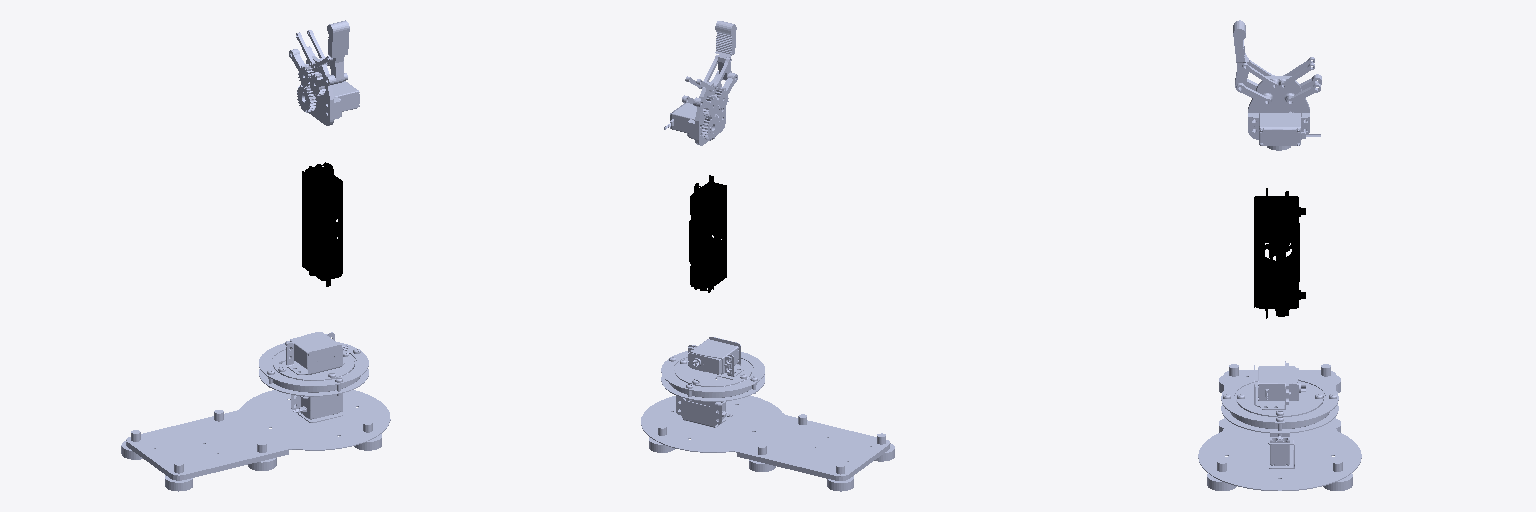
The robot description file, URDF, robot "robox_arm":
<?xml version="1.0" encoding="utf-8"?>
<robot name="robox_arm">
  <link name="world" />
  <joint name="world_to_base" type="fixed">
    <parent link="world" />
    <child link="base_link" />
    <origin xyz="0 0 0" rpy="0 0 0" />
  </joint>
  <link name="base_link">
    <inertial>
      <origin xyz="-0.0334185417734068 0.000387038994720544 0.0314489504139099" rpy="0 0 0" />
      <mass value="0.446165792554974" />
      <inertia ixx="0.000377604195091325" ixy="1.5002286725277E-07" ixz="3.39719956827626E-08" iyy="0.000575990291491252" iyz="-4.62907243003046E-07" izz="0.000932227302367943" />
    </inertial>
    <visual>
      <origin xyz="0 0 0" rpy="0 0 0" />
      <geometry>
        <mesh filename="package://robox_arm/meshes/base_link.STL" />
      </geometry>
      <material name="">
        <color rgba="0.792156862745098 0.819607843137255 0.933333333333333 1" />
      </material>
    </visual>
    <collision>
      <origin xyz="0 0 0" rpy="0 0 0" />
      <geometry>
        <mesh filename="package://robox_arm/meshes/base_link.STL" />
      </geometry>
    </collision>
  </link>
  <link name="link_one">
    <inertial>
      <origin xyz="-6.03622970718007E-06 -0.00521662588863068 0.0257879622486223" rpy="0 0 0" />
      <mass value="0.0668932541241872" />
      <inertia ixx="1.48670587538434E-05" ixy="-1.64856890592254E-07" ixz="-2.11950827848722E-11" iyy="1.80390144856992E-05" iyz="4.60310653530523E-07" izz="2.74670730418135E-05" />
    </inertial>
    <visual>
      <origin xyz="0 0 0" rpy="0 0 0" />
      <geometry>
        <mesh filename="package://robox_arm/meshes/link_one.STL" />
      </geometry>
      <material name="">
        <color rgba="0.792156862745098 0.819607843137255 0.933333333333333 1" />
      </material>
    </visual>
    <collision>
      <origin xyz="0 0 0" rpy="0 0 0" />
      <geometry>
        <mesh filename="package://robox_arm/meshes/link_one.STL" />
      </geometry>
    </collision>
  </link>
  <joint name="joint_one" type="revolute">
    <origin xyz="0 0 0.0466" rpy="0 0 0" />
    <parent link="base_link" />
    <child link="link_one" />
    <axis xyz="0 0 -1" />
    <limit lower="-1.57" upper="1.57" effort="100" velocity="1.0" />
  </joint>
  <link name="link_two">
    <inertial>
      <origin xyz="-0.00395375026056333 -0.0261174627773937 0.050000000000004" rpy="0 0 0" />
      <mass value="0.0422835365975947" />
      <inertia ixx="5.89921114741114E-05" ixy="6.97908192319894E-08" ixz="2.03660766696015E-19" iyy="3.9772332084034E-05" iyz="-3.28467652830113E-20" izz="2.5539223828081E-05" />
    </inertial>
    <visual>
      <origin xyz="0 0 0" rpy="0 0 0" />
      <geometry>
        <mesh filename="package://robox_arm/meshes/link_two.STL" />
      </geometry>
      <material name="">
        <color rgba="0.650980392156863 0.619607843137255 0.588235294117647 1" />
      </material>
    </visual>
    <collision>
      <origin xyz="0 0 0" rpy="0 0 0" />
      <geometry>
        <mesh filename="package://robox_arm/meshes/link_two.STL" />
      </geometry>
    </collision>
  </link>
  <joint name="joint_two" type="revolute">
    <origin xyz="0.00949999999999964 0.0247000000000005 0.03197" rpy="0 0 0" />
    <parent link="link_one" />
    <child link="link_two" />
    <axis xyz="0 -1 0" />
    <limit lower="-1.57" upper="0.69" effort="100" velocity="1.0" />
  </joint>
  <link name="link_three">
    <inertial>
      <origin xyz="-0.00130547761778302 -0.0296809745011252 0.0450025336216375" rpy="0 0 0" />
      <mass value="0.13493320864261" />
      <inertia ixx="0.000101277084289936" ixy="1.06896096466094E-06" ixz="1.9122530405454E-09" iyy="8.18401383142468E-05" iyz="-1.20327532021426E-09" izz="3.06279251273651E-05" />
    </inertial>
    <visual>
      <origin xyz="0 0 0" rpy="0 0 0" />
      <geometry>
        <mesh filename="package://robox_arm/meshes/link_three.STL" />
      </geometry>
      <material name="">
        <color rgba="0 0 0 1" />
      </material>
    </visual>
    <collision>
      <origin xyz="0 0 0" rpy="0 0 0" />
      <geometry>
        <mesh filename="package://robox_arm/meshes/link_three.STL" />
      </geometry>
    </collision>
  </link>
  <joint name="joint_three" type="revolute">
    <origin xyz="0 0.000700000000000298 0.100000000000001" rpy="0 0 0" />
    <parent link="link_two" />
    <child link="link_three" />
    <axis xyz="0 -1 0" />
    <limit lower="-1.57" upper="1.57" effort="100" velocity="1.0" />
  </joint>
  <link name="link_four">
    <inertial>
      <origin xyz="0.000231063846424276 -0.0264803282154438 0.0477744454869917" rpy="0 0 0" />
      <mass value="0.0447180488708645" />
      <inertia ixx="1.67748714277602E-05" ixy="2.1197715357756E-11" ixz="-3.39708625518307E-08" iyy="1.67225833712195E-05" iyz="-1.14245221974723E-07" izz="1.41082751627853E-05" />
    </inertial>
    <visual>
      <origin xyz="0 0 0" rpy="0 0 0" />
      <geometry>
        <mesh filename="package://robox_arm/meshes/link_four.STL" />
      </geometry>
      <material name="">
        <color rgba="0.250980392156863 0.250980392156863 0.250980392156863 1" />
      </material>
    </visual>
    <collision>
      <origin xyz="0 0 0" rpy="0 0 0" />
      <geometry>
        <mesh filename="package://robox_arm/meshes/link_four.STL" />
      </geometry>
    </collision>
  </link>
  <joint name="joint_four" type="revolute">
    <origin xyz="0 0 0.0900000000000024" rpy="0 0 0" />
    <parent link="link_three" />
    <child link="link_four" />
    <axis xyz="0 -1 0" />
    <limit lower="-1.57" upper="1.57" effort="100" velocity="1.0" />
  </joint>
  <link name="link_five">
    <inertial>
      <origin xyz="-0.0053487746024533 0.000816136547311788 0.031618982814421" rpy="0 0 0" />
      <mass value="0.067532070571742" />
      <inertia ixx="2.03298597613589E-05" ixy="-1.0267674972768E-09" ixz="9.64129370372415E-07" iyy="1.07589999406465E-05" iyz="-2.00951540427755E-07" izz="1.25282391022449E-05" />
    </inertial>
    <visual>
      <origin xyz="0 0 0" rpy="0 0 0" />
      <geometry>
        <mesh filename="package://robox_arm/meshes/link_five.STL" />
      </geometry>
      <material name="">
        <color rgba="0.792156862745098 0.819607843137255 0.933333333333333 1" />
      </material>
    </visual>
    <collision>
      <origin xyz="0 0 0" rpy="0 0 0" />
      <geometry>
        <mesh filename="package://robox_arm/meshes/link_five.STL" />
      </geometry>
    </collision>
  </link>
  <joint name="joint_five" type="revolute">
    <origin xyz="0.00975000000002091 -0.0263999999999991 0.0726000000000027" rpy="0 0 0" />
    <parent link="link_four" />
    <child link="link_five" />
    <axis xyz="0 0 -1" />
    <limit lower="-1.57" upper="1.57" effort="100" velocity="1.0" />
  </joint>
  <link name="link_six">
    <inertial>
      <origin xyz="-7.04166355173369E-09 0.00538295031234353 -0.0219879956622193" rpy="0 0 0" />
      <mass value="0.0100926857205057" />
      <inertia ixx="3.69526754574355E-06" ixy="-1.11193490795298E-13" ixz="-6.64808079689313E-13" iyy="3.84164503737558E-06" iyz="-1.94557811545775E-07" izz="3.61559746771212E-07" />
    </inertial>
    <visual>
      <origin xyz="0 0 0" rpy="0 0 0" />
      <geometry>
        <mesh filename="package://robox_arm/meshes/link_six.STL" />
      </geometry>
      <material name="">
        <color rgba="0.792156862745098 0.819607843137255 0.933333333333333 1" />
      </material>
    </visual>
    <collision>
      <origin xyz="0 0 0" rpy="0 0 0" />
      <geometry>
        <mesh filename="package://robox_arm/meshes/link_six.STL" />
      </geometry>
    </collision>
  </link>
  <joint name="joint_six" type="prismatic">
    <origin xyz="-0.0125000000000004 0.0320459025242005 0.120525308883549" rpy="0 0 0" />
    <parent link="link_five" />
    <child link="link_six" />
    <axis xyz="0 0.99457640726172 -0.104008509836308" />
    <limit lower="-0.03" upper="0" effort="1" velocity="1.0" />
  </joint>
  <link name="link_seven">
    <inertial>
      <origin xyz="7.04161882969512E-09 -0.00538295031233112 -0.0219879956622221" rpy="0 0 0" />
      <mass value="0.0100926857205057" />
      <inertia ixx="3.69526754574355E-06" ixy="-1.1119349082246E-13" ixz="6.64808080442258E-13" iyy="3.84164503737538E-06" iyz="1.94557811547591E-07" izz="3.61559746771416E-07" />
    </inertial>
    <visual>
      <origin xyz="0 0 0" rpy="0 0 0" />
      <geometry>
        <mesh filename="package://robox_arm/meshes/link_seven.STL" />
      </geometry>
      <material name="">
        <color rgba="0.792156862745098 0.819607843137255 0.933333333333333 1" />
      </material>
    </visual>
    <collision>
      <origin xyz="0 0 0" rpy="0 0 0" />
      <geometry>
        <mesh filename="package://robox_arm/meshes/link_seven.STL" />
      </geometry>
    </collision>
  </link>
  <joint name="joint_seven" type="prismatic">
    <origin xyz="-0.0124999999999996 -0.0322959025242393 0.120525308883539" rpy="0 0 0" />
    <parent link="link_five" />
    <child link="link_seven" />
    <axis xyz="0 -0.994576407261666 -0.104008509836822" />
    <limit lower="-0.03" upper="0" effort="1" velocity="1.0" />
  </joint>
</robot>

--- What the picture shows (computed from the rendered views, not written in the file) ---
The picture shows the robot from 3 angles, left to right: view 1: azimuth 30°, elevation 25°; view 2: azimuth 150°, elevation 25°; view 3: azimuth 270°, elevation 25°; orthographic projection.
Robot: robox_arm — 9 links, 8 joints (5 revolute, 2 prismatic, 1 fixed); root link world; default pose: every joint at zero.
Links seen in each view (by area): view 1: base_link, link_three, link_five, link_one, link_seven; view 2: base_link, link_three, link_five, link_one, link_seven; view 3: base_link, link_three, link_five, link_one, link_seven.
Link boxes in pixels (bbox=[...]): base_link: bbox=[121, 341, 390, 491]; link_three: bbox=[302, 162, 342, 286]; link_five: bbox=[289, 30, 359, 125]; link_one: bbox=[273, 332, 354, 380]; link_seven: bbox=[327, 20, 349, 83]; base_link: bbox=[641, 350, 894, 491]; link_three: bbox=[689, 175, 726, 292]; link_five: bbox=[664, 55, 737, 145]; link_one: bbox=[675, 337, 751, 386]; link_seven: bbox=[715, 21, 736, 80]; base_link: bbox=[1198, 364, 1361, 490]; link_three: bbox=[1254, 188, 1305, 318]; link_five: bbox=[1235, 57, 1321, 150]; link_one: bbox=[1237, 361, 1322, 416]; link_seven: bbox=[1233, 20, 1249, 87].
Size in the robot's own frame: 0.2831 by 0.16 by 0.4836 metres.
Meshes: 8 distinct files referenced, 5 mesh visuals loaded (5 binary STL); not drawn: 3 (file found but could not be loaded).